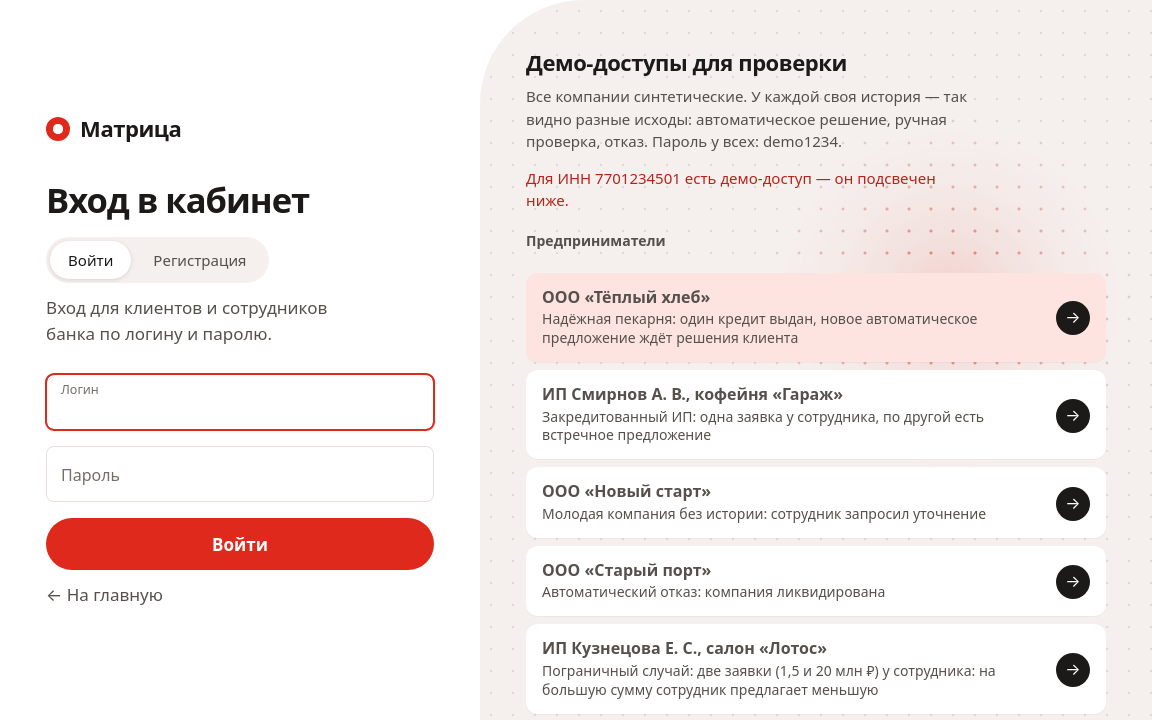
Test: Login › explains the lockout when there are too many attempts
This screenshot has width=1152, height=720.
Type "client1" into the field labelled "Логин".
click(240, 402); type("client1")  # box left=46, top=374, right=434, bottom=430
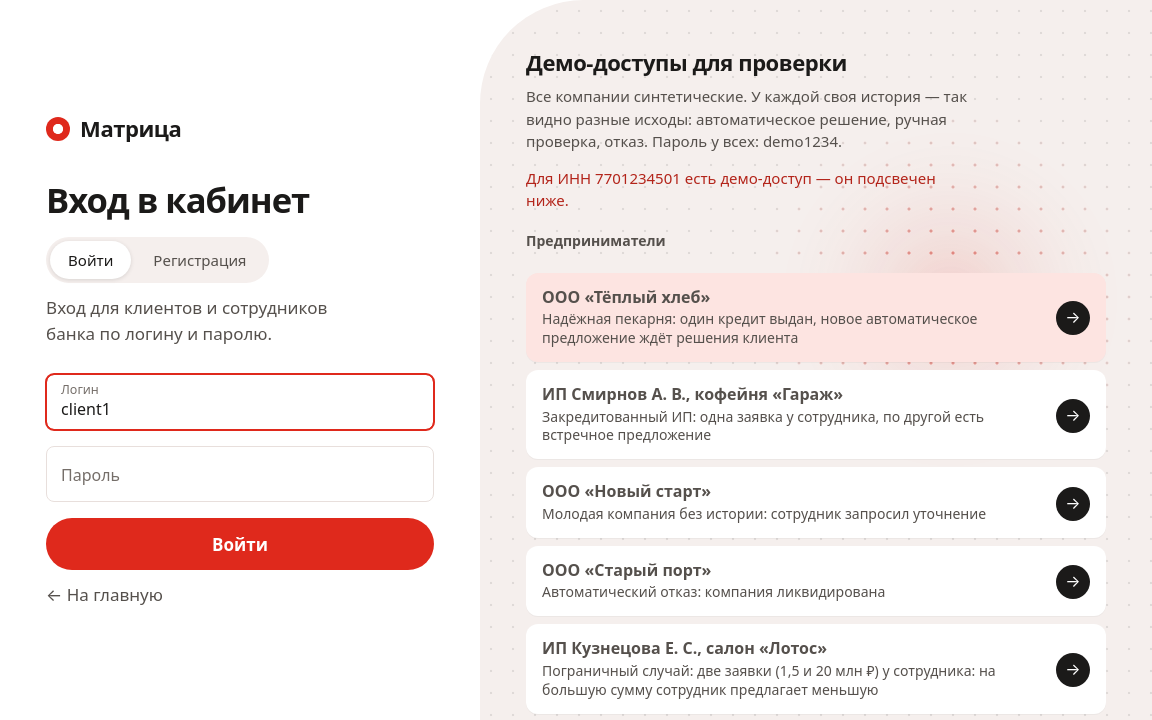
Type "x" into the password field labelled "Пароль".
click(240, 474); type("x")  # box left=46, top=446, right=434, bottom=502
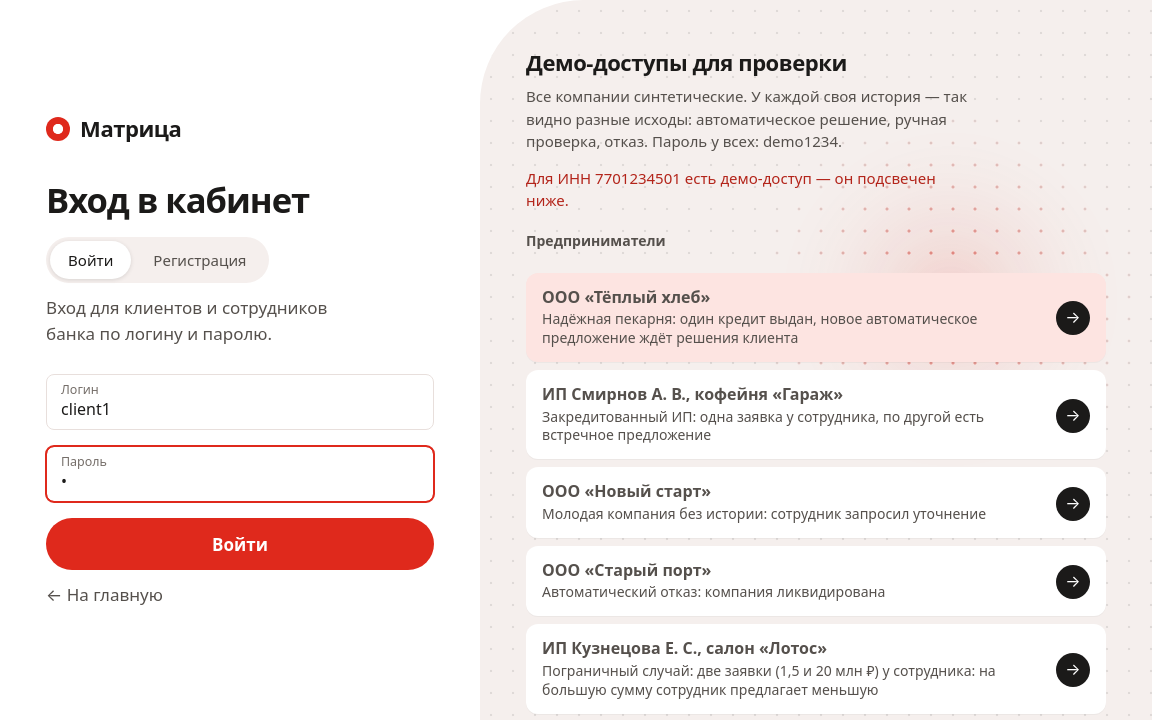
Click the button "Войти".
click(240, 544)  # box left=46, top=518, right=434, bottom=570
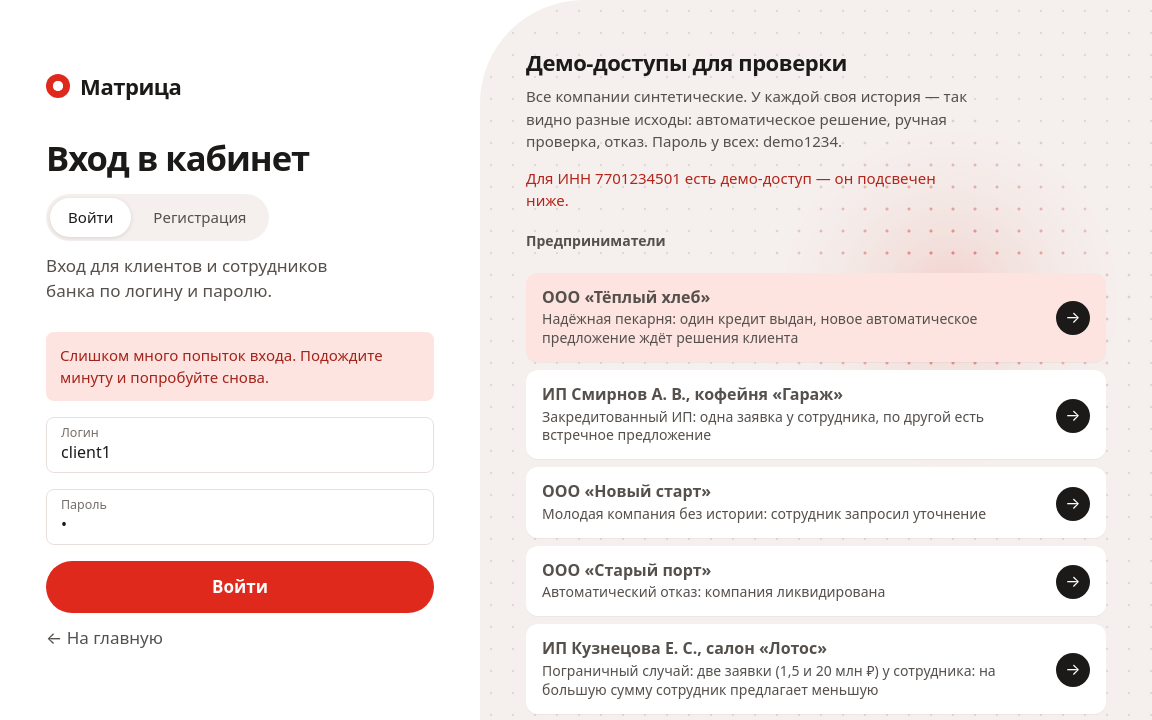
Expected: the message shows "Подождите минуту", left=60, top=345, right=383, bottom=387
